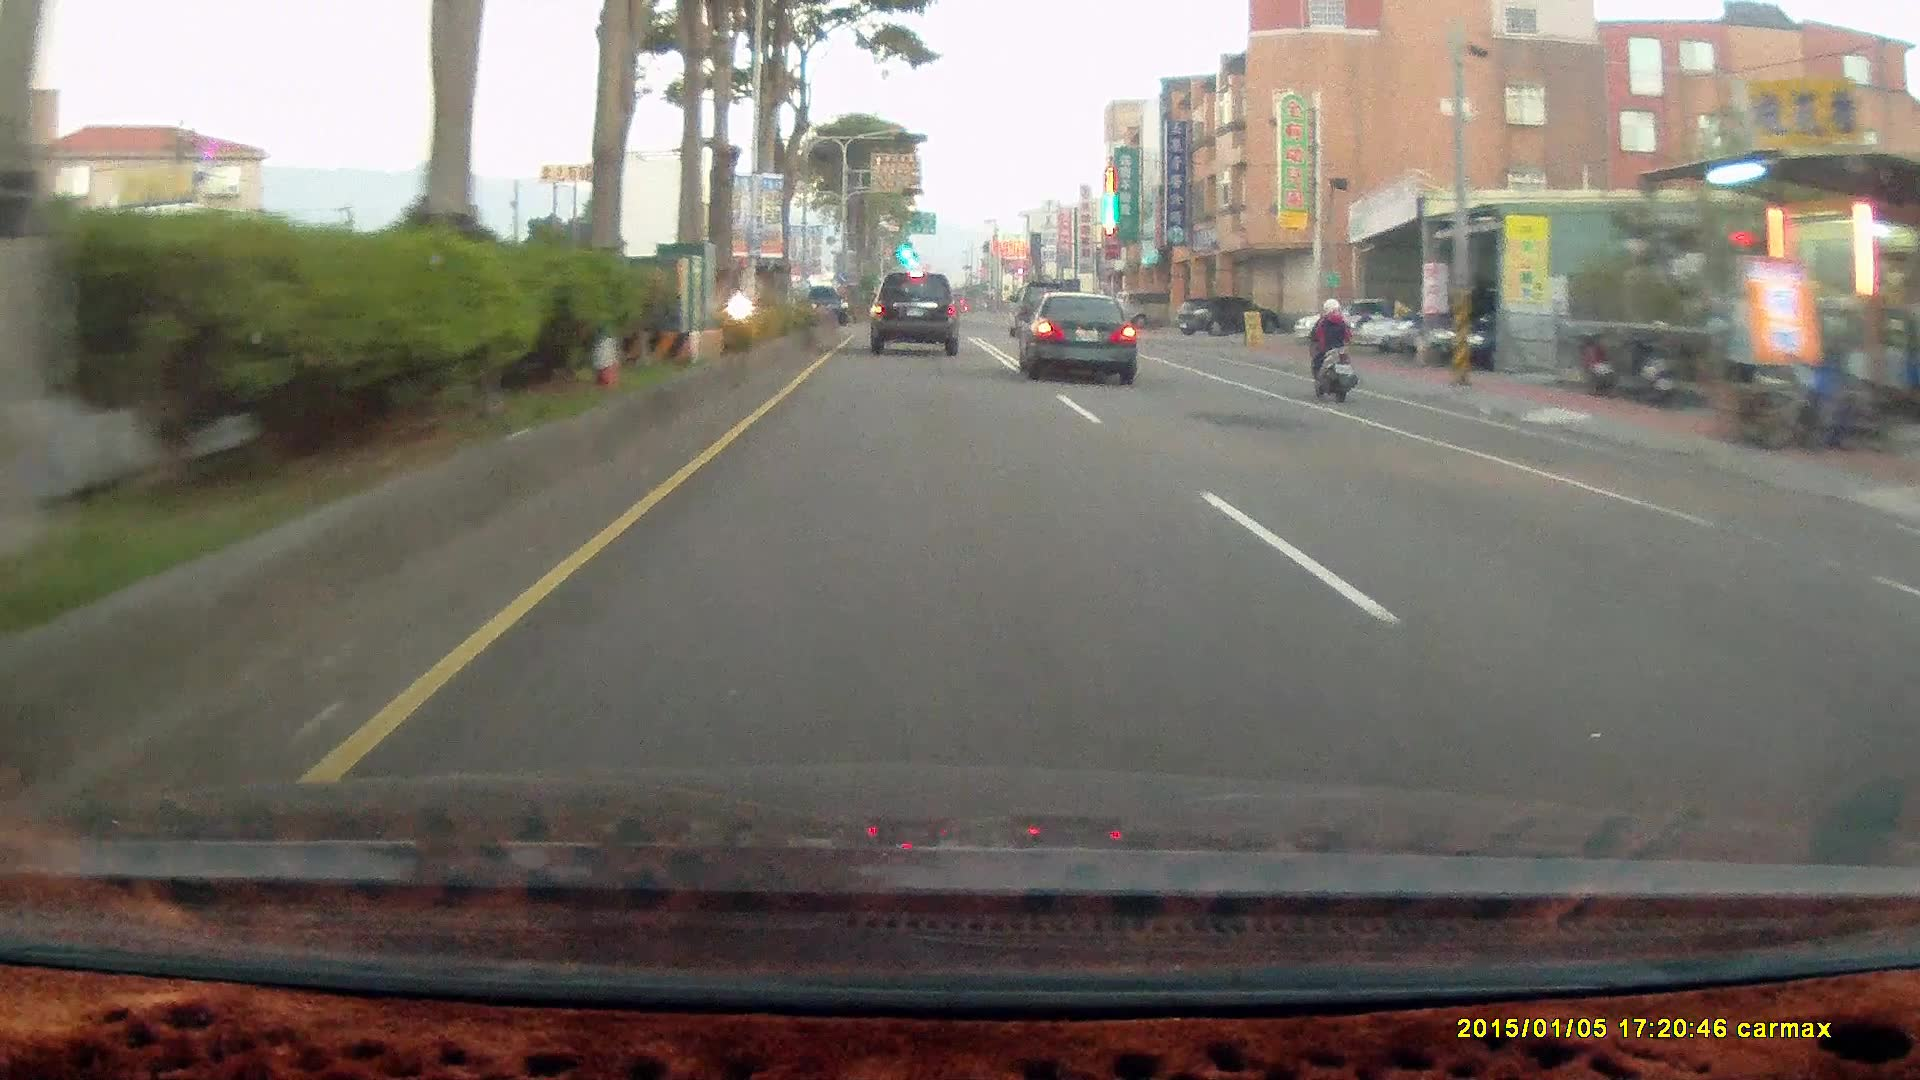rider: (1294, 287, 1370, 413), (1300, 292, 1358, 399)
vehicle: (1021, 291, 1143, 387), (1014, 290, 1134, 383), (1447, 301, 1594, 371), (871, 269, 965, 357), (868, 271, 959, 356), (1390, 292, 1504, 357), (1290, 295, 1428, 348), (1360, 304, 1458, 351), (1177, 297, 1273, 342), (1176, 295, 1282, 335), (1116, 288, 1193, 327), (796, 284, 851, 324)
